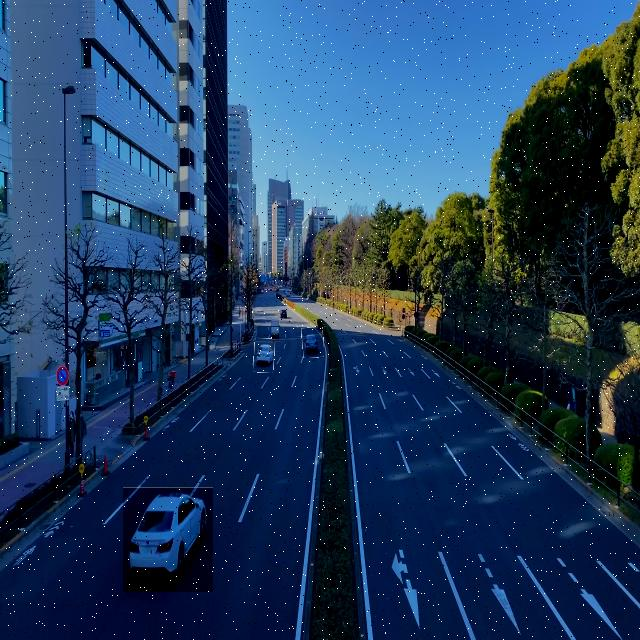Car: (123, 487, 213, 592), (253, 339, 275, 373), (302, 328, 323, 358)
